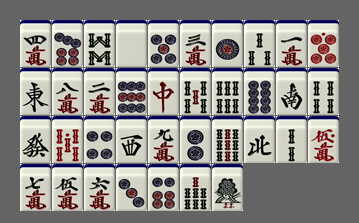0m: (308, 116, 339, 163)
0p: (308, 20, 339, 67)
0s: (52, 116, 83, 163)
1m: (276, 20, 307, 67)
1p: (212, 20, 243, 67)
1s: (212, 164, 243, 211)
1z: (20, 68, 51, 115)
2m: (84, 68, 115, 115)
2p: (180, 116, 211, 163)
2s: (276, 116, 307, 163)
2z: (276, 68, 307, 115)
3m: (180, 20, 211, 67)
3p: (116, 164, 147, 211)
3s: (244, 20, 275, 67)
3z: (116, 116, 147, 163)
4m: (20, 20, 51, 67)
4p: (84, 116, 115, 163)
4s: (308, 68, 339, 115)
4z: (244, 116, 275, 163)
5m: (52, 164, 83, 211)
5p: (148, 20, 179, 67)
5s: (180, 68, 211, 115)
5z: (116, 20, 147, 67)
6m: (84, 164, 115, 211)
6p: (148, 164, 179, 211)
6s: (212, 68, 243, 115)
6z: (20, 116, 51, 163)
7m: (20, 164, 51, 211)
7p: (52, 20, 83, 67)
7s: (180, 164, 211, 211)
7z: (148, 68, 179, 115)
8m: (52, 68, 83, 115)
8p: (244, 68, 275, 115)
8s: (84, 20, 115, 67)
9m: (148, 116, 179, 163)
9p: (116, 68, 147, 115)
9s: (212, 116, 243, 163)
